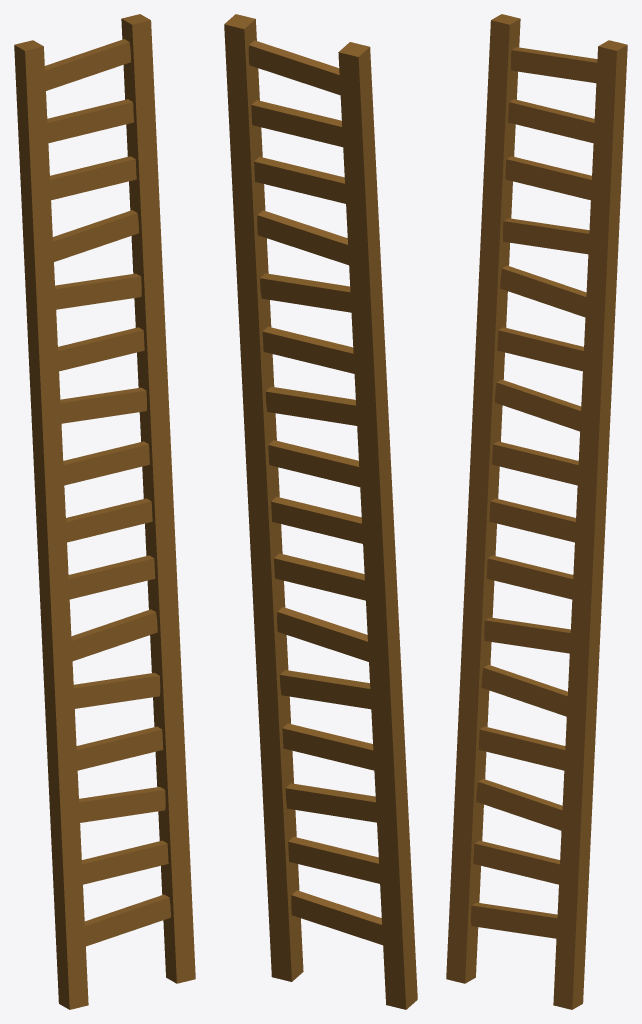
File: Escalera.fbx
3 renders of one model, left to right at view 1: azimuth 30°, elevation 25°; view 2: azimuth 150°, elevation 25°; view 3: azimuth 330°, elevation 25°, orthographic. The views are drawn at different scales.
Parts seen in each view (by area): view 1: Escalera; view 2: Escalera; view 3: Escalera.
Boxes of the visible parts, x1,y1,x2,y2 form: Escalera: [14, 14, 195, 1009]; Escalera: [224, 14, 417, 1009]; Escalera: [446, 14, 627, 1009].
Bounding box in the file's own units: 0.9409 × 6.62 × 0.7183.
